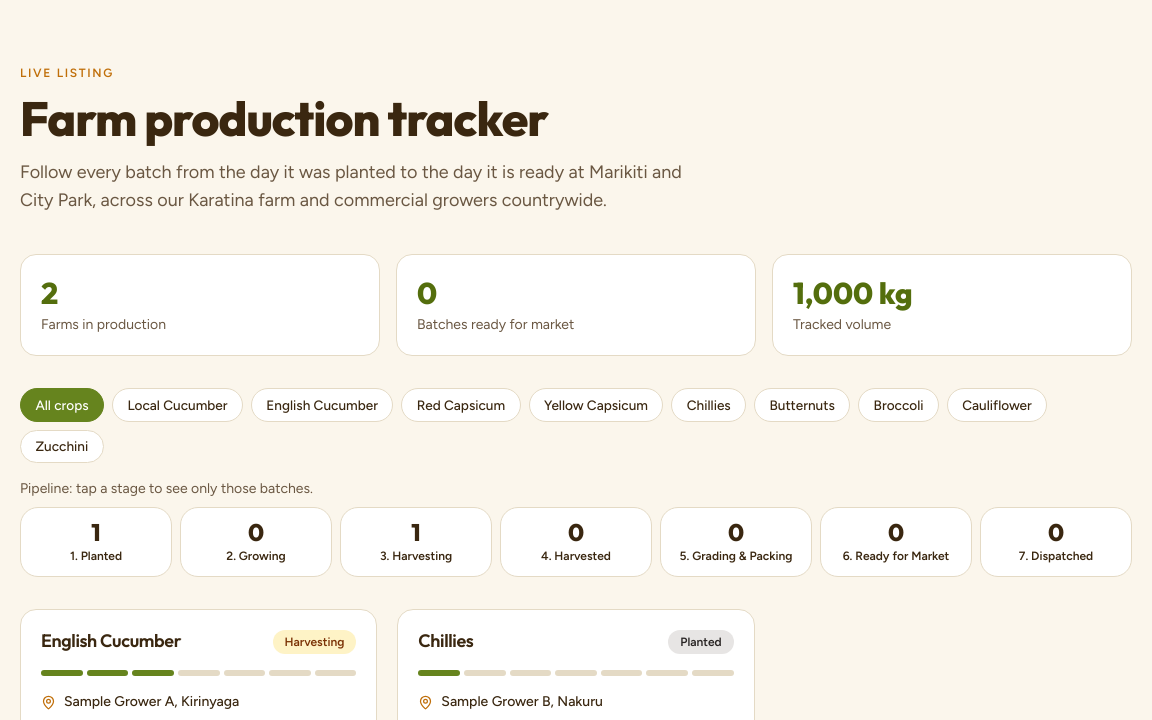
Farm tracker: pipeline › shows how many batches are at each stage and filters when a stage is tapped
Expected: the heading "English Cucumber" is shown, [41,630,181,653]
Expected: the button with aria-label "Growing, 0 batches" is shown, [180,507,332,577]
Click the button with aria-label "Planted, 1 batch".
click(96, 542)  # box [20,507,172,577]
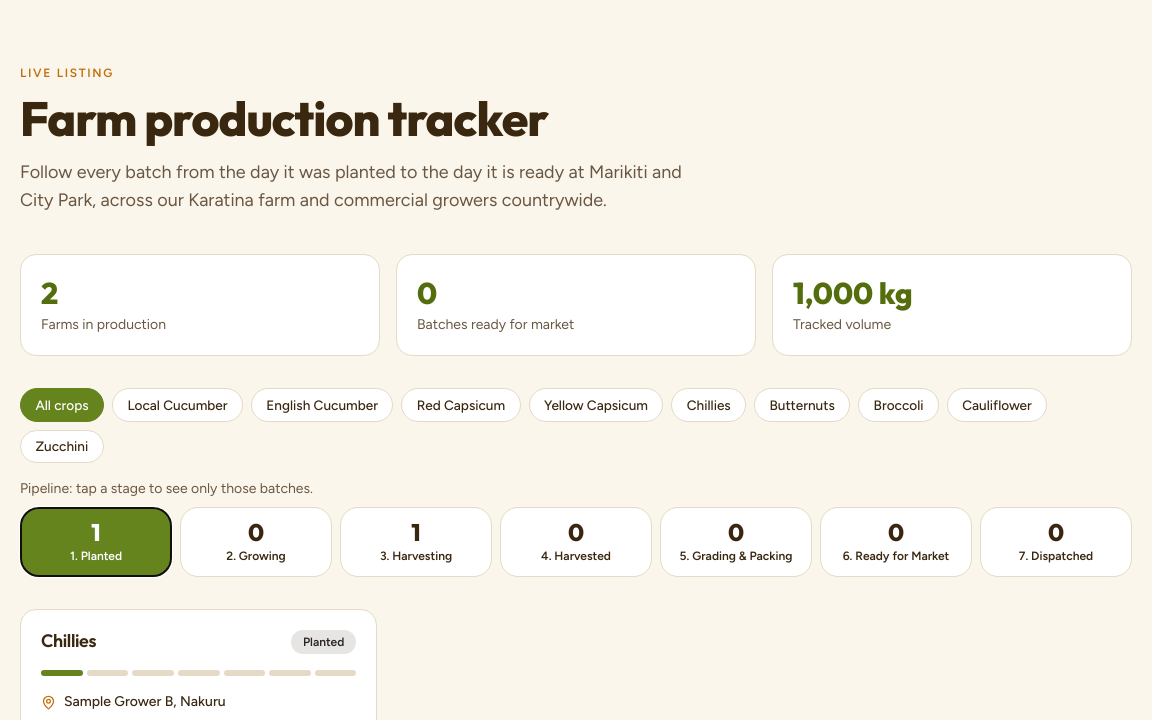
Expected: the heading "Chillies" is shown, [41,630,96,653]
# Tapping the same stage again clears the filter.
Click the button with aria-label "Planted, 1 batch".
click(96, 542)  # box [20,507,172,577]
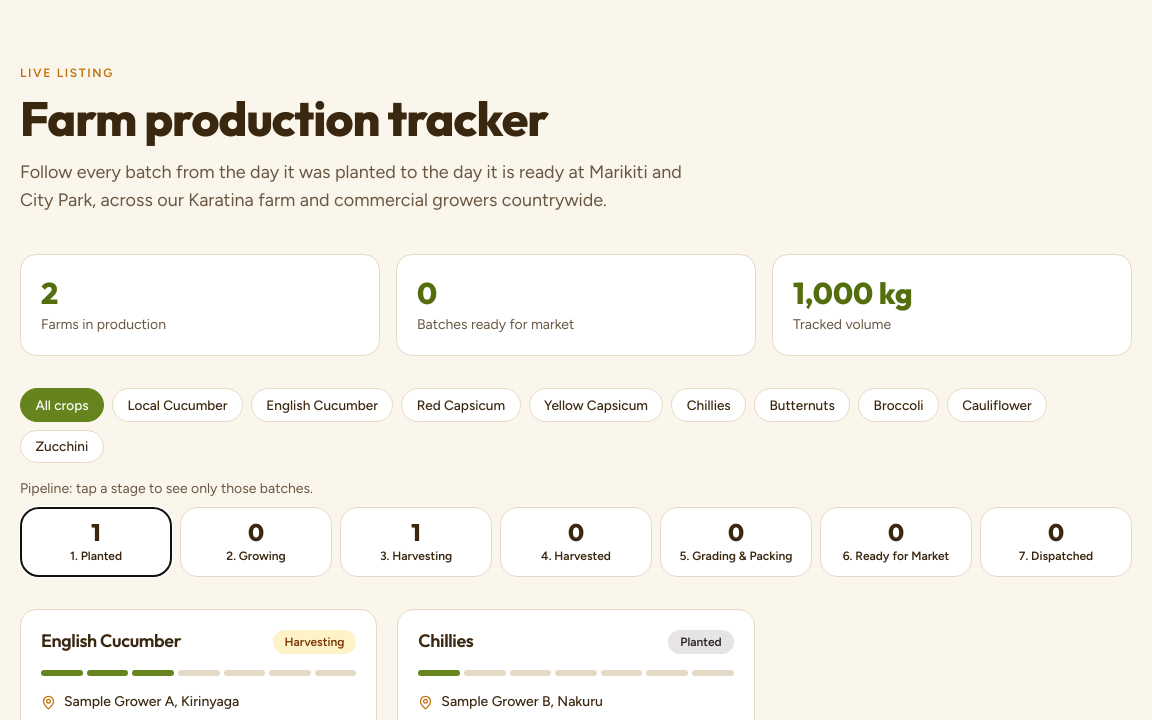
Expected: the heading "English Cucumber" is shown, [41,630,181,653]
